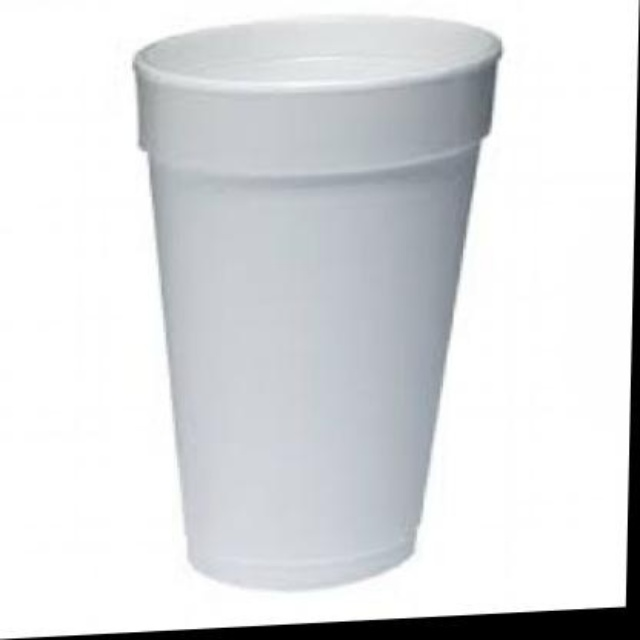trash: (134, 17, 500, 588)
